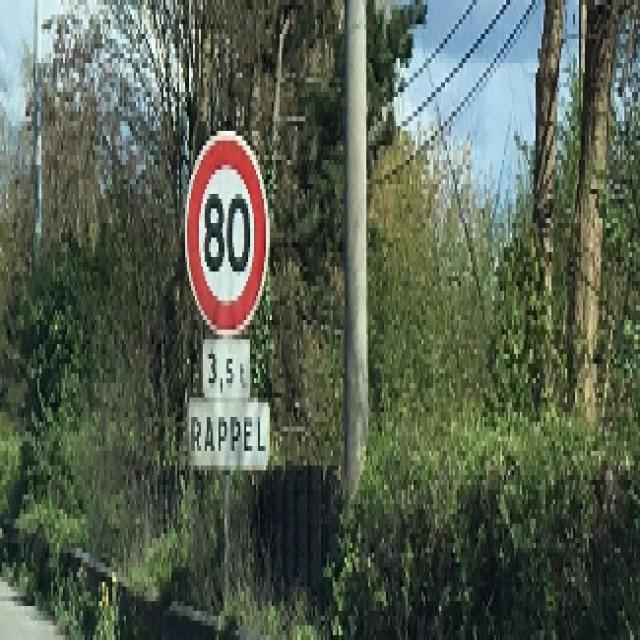speed_80: (184, 127, 271, 340)
